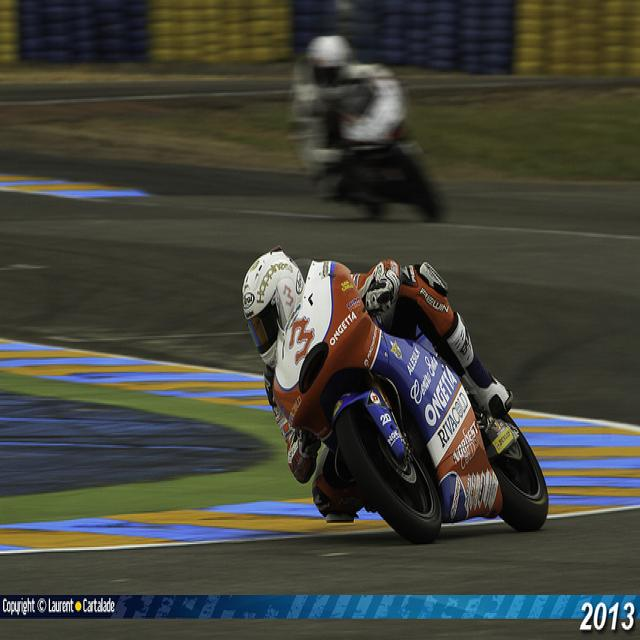motor: (282, 260, 548, 534), (312, 57, 453, 224)
